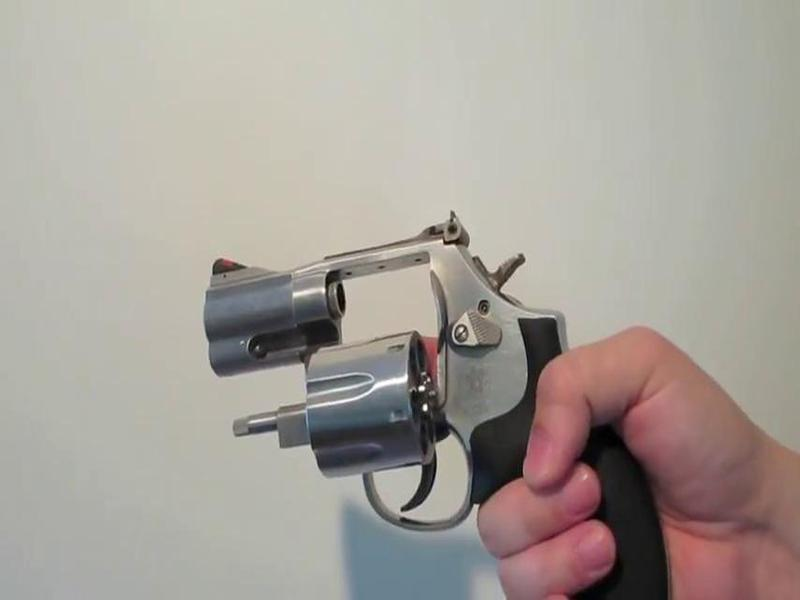Revolver: (195, 215, 664, 600)
